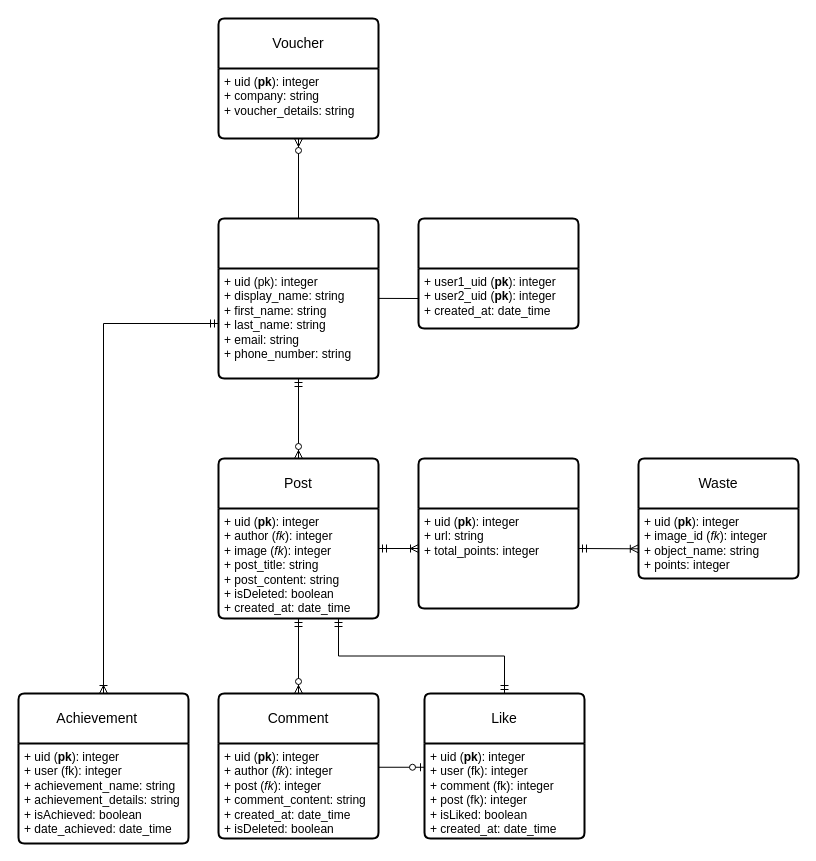
This 816x861 diagram has some shape labels left out. Here are the shapes that lost their labels. From the top down, the box of each, then its label:
(417, 217, 579, 329): UserFriends
(217, 217, 379, 379): User
(417, 457, 579, 609): Image
